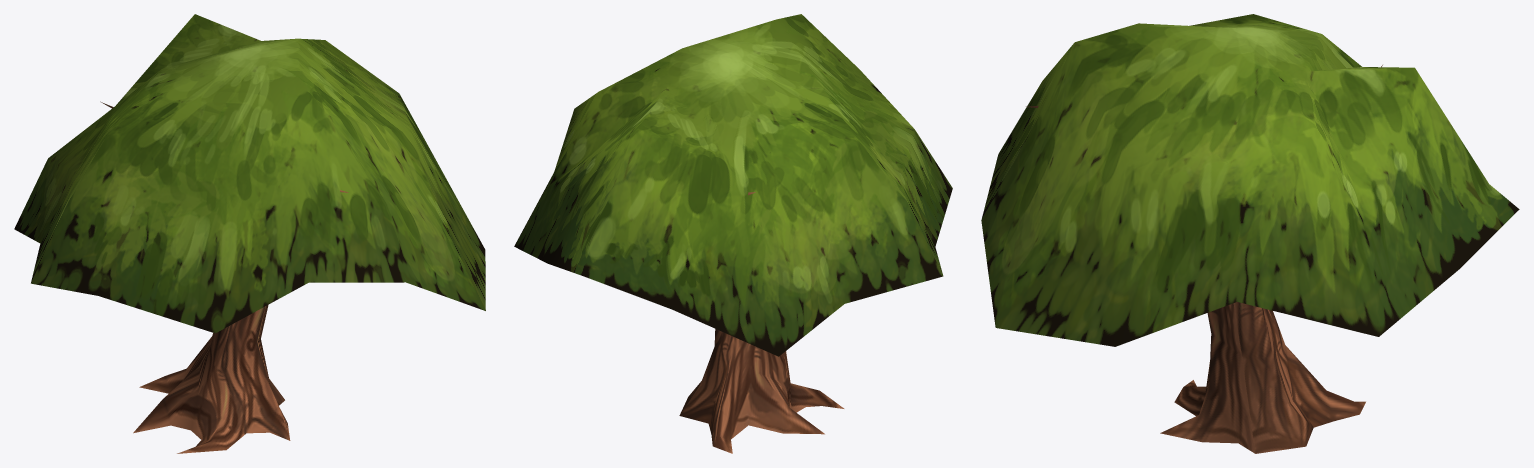
The model's file is tree_TreeShort6.FBX.
3 renders of one model, left to right at view 1: azimuth 30°, elevation 25°; view 2: azimuth 150°, elevation 25°; view 3: azimuth 270°, elevation 25°, orthographic. The views are drawn at different scales.
Visible parts, largest first — view 1: env_TreeTrunk1; view 2: env_TreeTrunk1; view 3: env_TreeTrunk1.
Boxes of the visible parts, x1,y1,x2,y2 form: env_TreeTrunk1: (14, 14, 485, 453); env_TreeTrunk1: (514, 14, 952, 453); env_TreeTrunk1: (981, 14, 1519, 453).
Size of the model in its own units: 44.09 by 45.73 by 38.32.
Materials: 2 (2 with a texture image).
